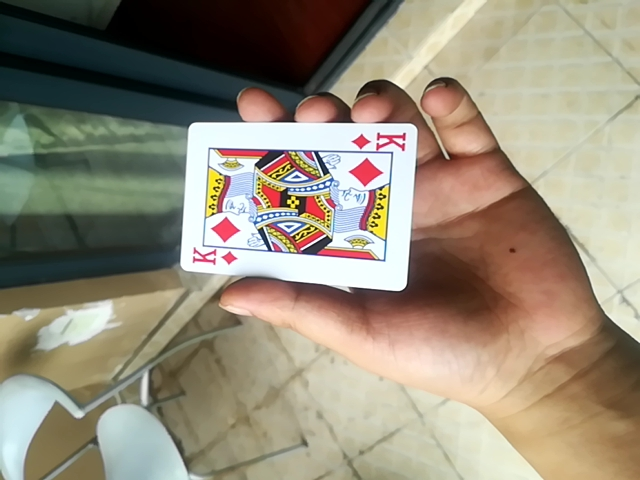fk k: (175, 121, 416, 288)
